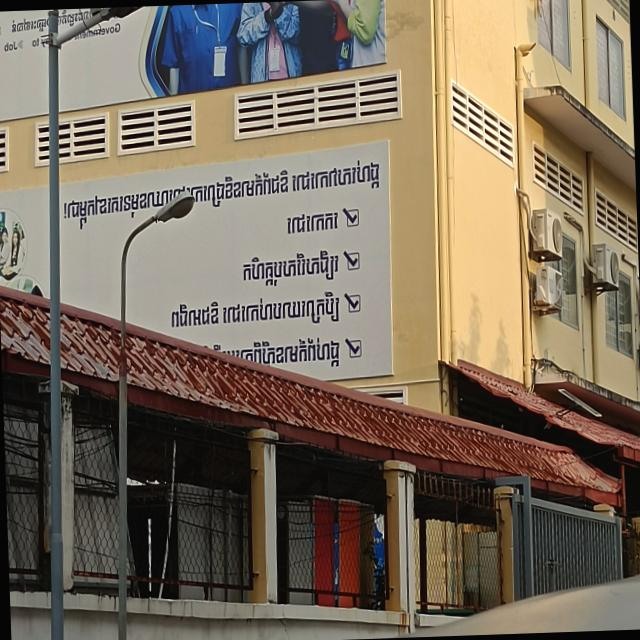1: (61, 156, 384, 233), (168, 286, 342, 332)
Yolov11_80vkh: (237, 247, 341, 290), (273, 332, 342, 369), (284, 207, 341, 239)
